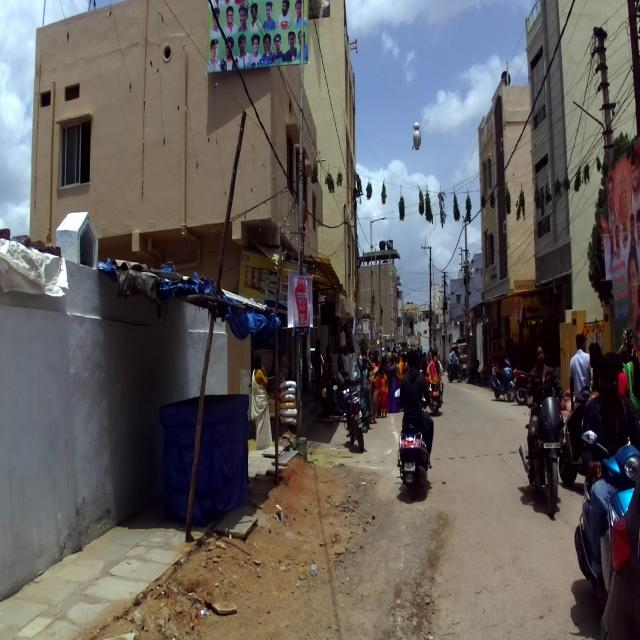motorcycle: (518, 390, 566, 516), (332, 369, 368, 452)
scooter: (574, 426, 640, 610), (394, 382, 438, 500), (559, 385, 596, 486), (490, 356, 516, 401)
